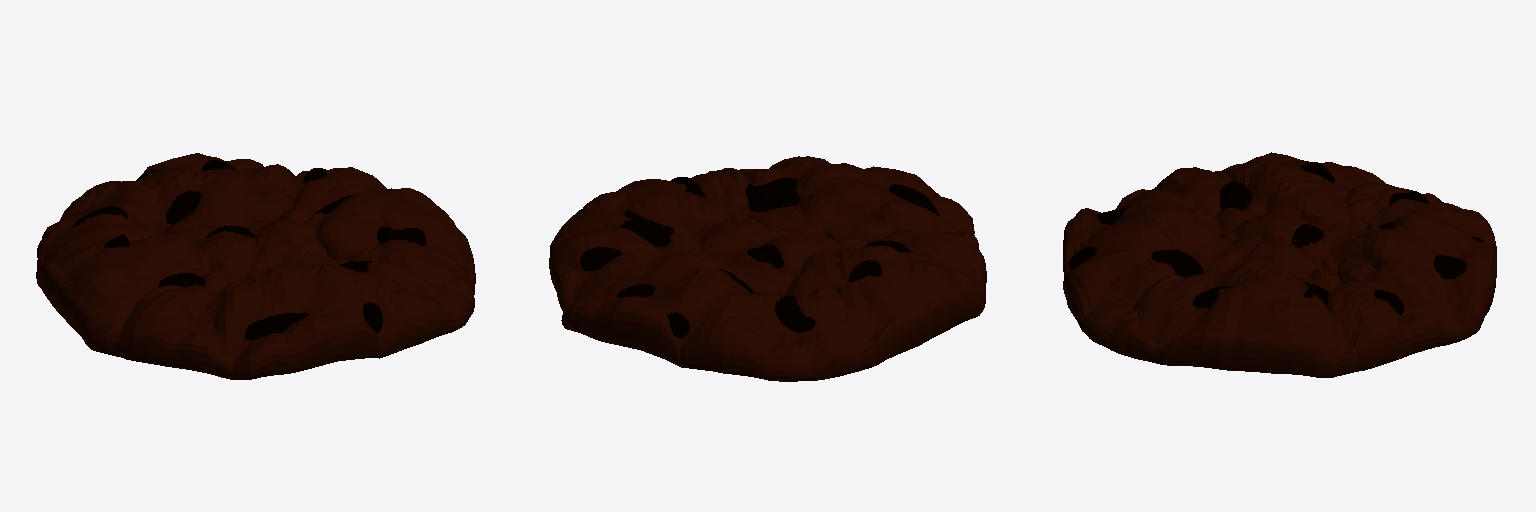
The model's file is cookie2.obj.
3 renders of one model, left to right at view 1: azimuth 30°, elevation 25°; view 2: azimuth 150°, elevation 25°; view 3: azimuth 270°, elevation 25°, orthographic.
Parts seen in each view (by area): view 1: Cookie, chip.003, chip.011, chip.010; view 2: Cookie, chip.007, chip.001, chip.002, chip.008, chip.003, chip.005; view 3: Cookie, chip.007, chip.006, chip.012.
Part boxes in pixels (bbox=[...]): Cookie: bbox=[36, 153, 475, 379]; chip.003: bbox=[245, 313, 308, 341]; chip.011: bbox=[166, 190, 201, 224]; chip.010: bbox=[377, 227, 425, 245]; Cookie: bbox=[549, 156, 986, 381]; chip.007: bbox=[745, 178, 801, 211]; chip.001: bbox=[619, 210, 674, 246]; chip.002: bbox=[775, 296, 815, 332]; chip.008: bbox=[580, 247, 621, 270]; chip.003: bbox=[889, 184, 939, 216]; chip.005: bbox=[747, 245, 783, 268]; Cookie: bbox=[1063, 152, 1496, 377]; chip.007: bbox=[1151, 249, 1203, 277]; chip.006: bbox=[1220, 182, 1251, 210]; chip.012: bbox=[1434, 255, 1466, 278].
Bounding box in the file's own units: 6.67 × 1.24 × 6.58.